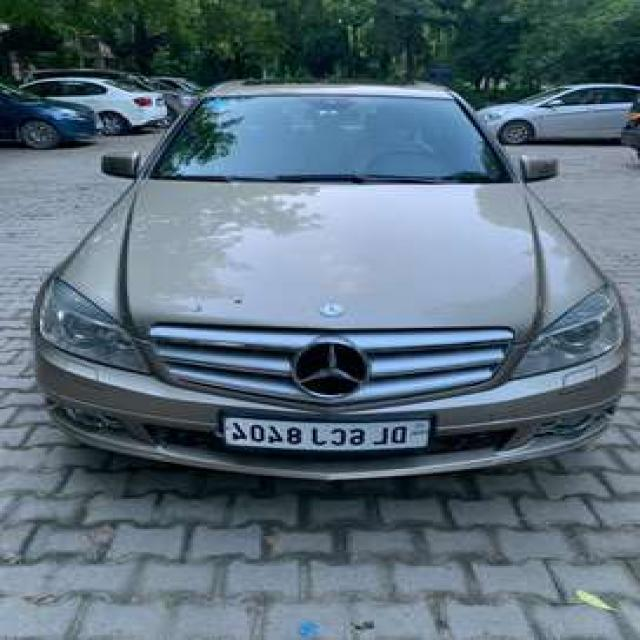license_plate: (220, 408, 437, 453)
